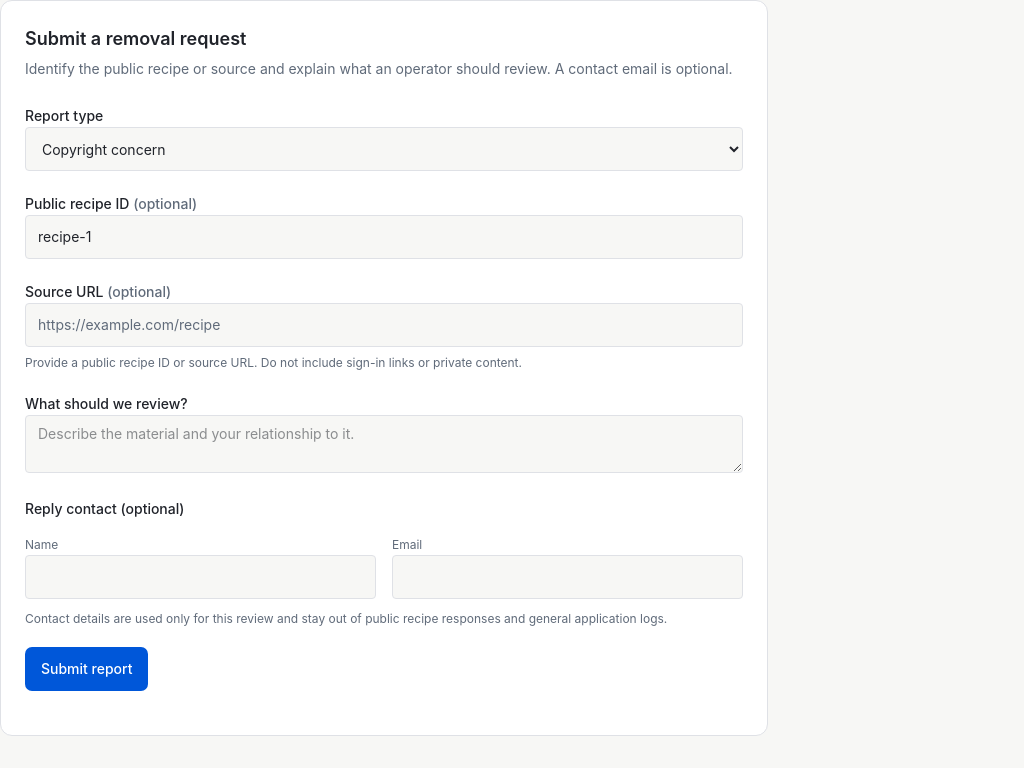
Test case: ComplaintForm › prefills a linked recipe and submits a public-content report
Expected: the field labelled "Public recipe ID (optional)" holds "recipe-1", [25, 215, 743, 259]
Type "This source uses my work." into the text box labelled "What should we review?" at (384, 444), box [25, 415, 743, 473]
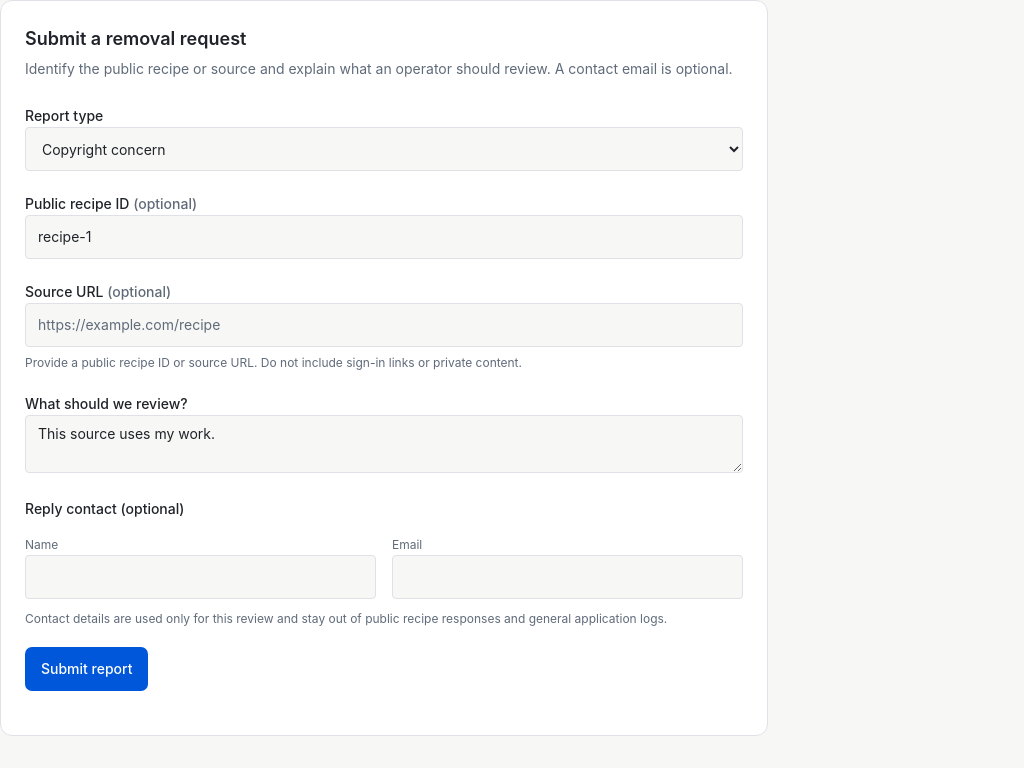
Type "owner@example.com" into the field labelled "Email" at (568, 577), box [392, 555, 743, 599]
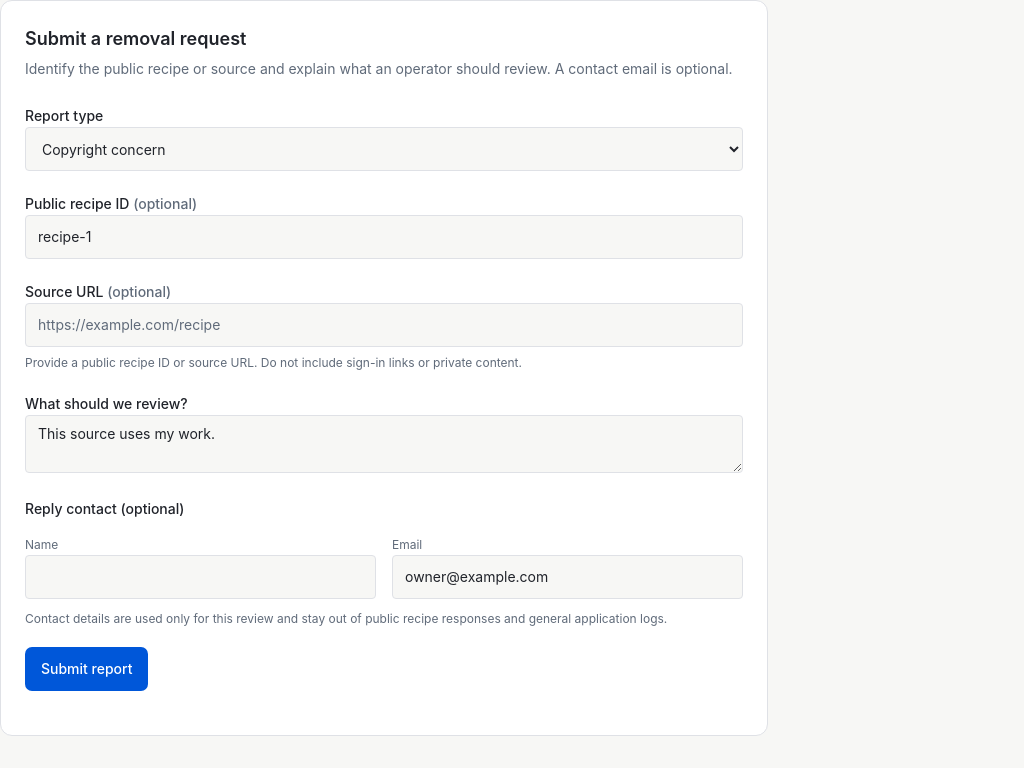
Submit the form from the button "Submit report", box [25, 647, 148, 691]
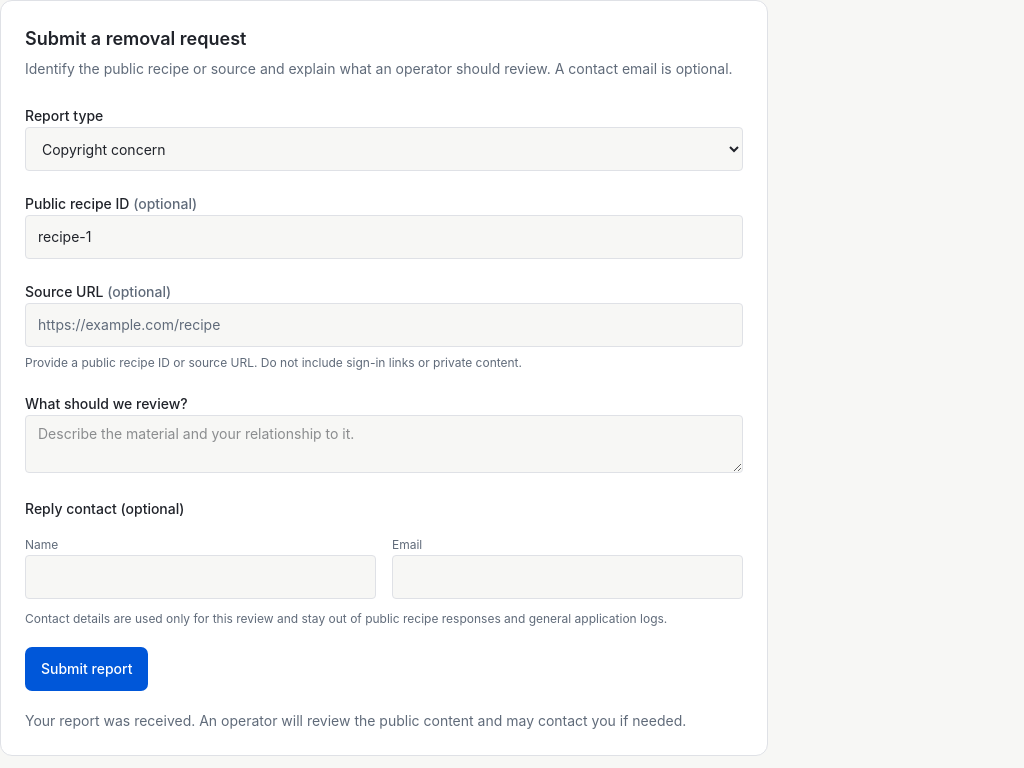
Now the text "Your report was received" is shown, box [25, 712, 686, 729]
